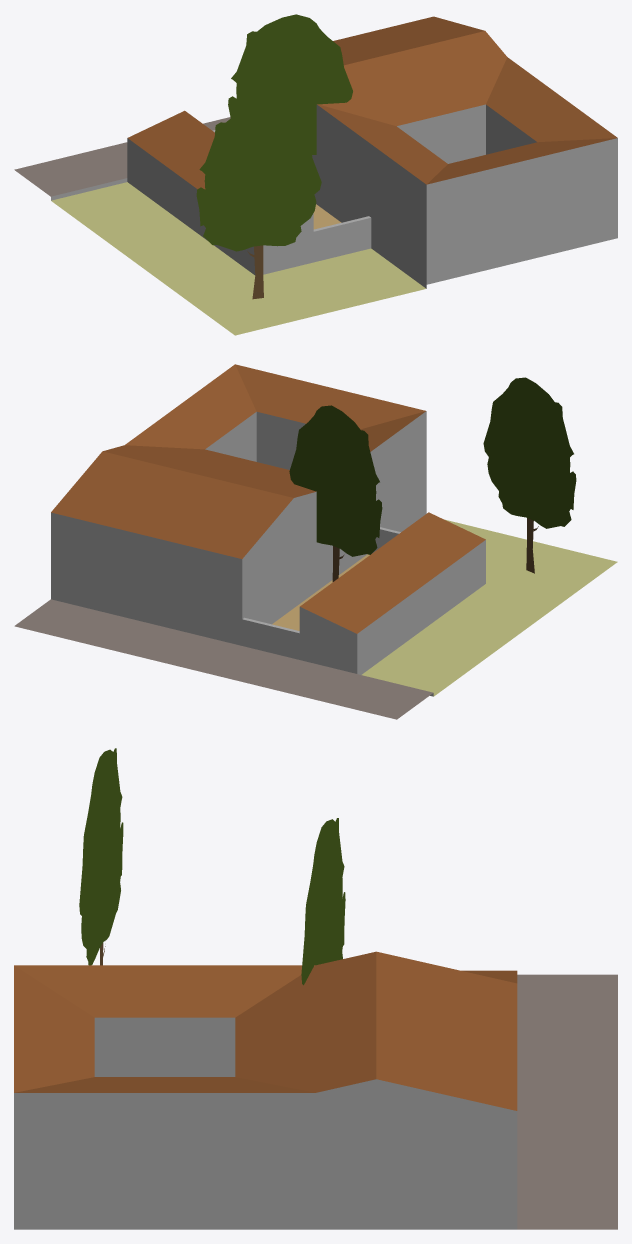
3 views of the same model, one above another, from view 1: azimuth 30°, elevation 25°; view 2: azimuth 150°, elevation 25°; view 3: azimuth 270°, elevation 25° (orthographic). The views are drawn at different scales.
Visible parts, largest first — view 1: rr2w; view 2: rr2w; view 3: rr2w.
Part boxes in pixels (x1,y1,x2,y2): rr2w: (14, 14, 617, 335); rr2w: (14, 364, 617, 719); rr2w: (14, 748, 617, 1229).
Size of the model in its own units: 30 by 14.71 by 30.
